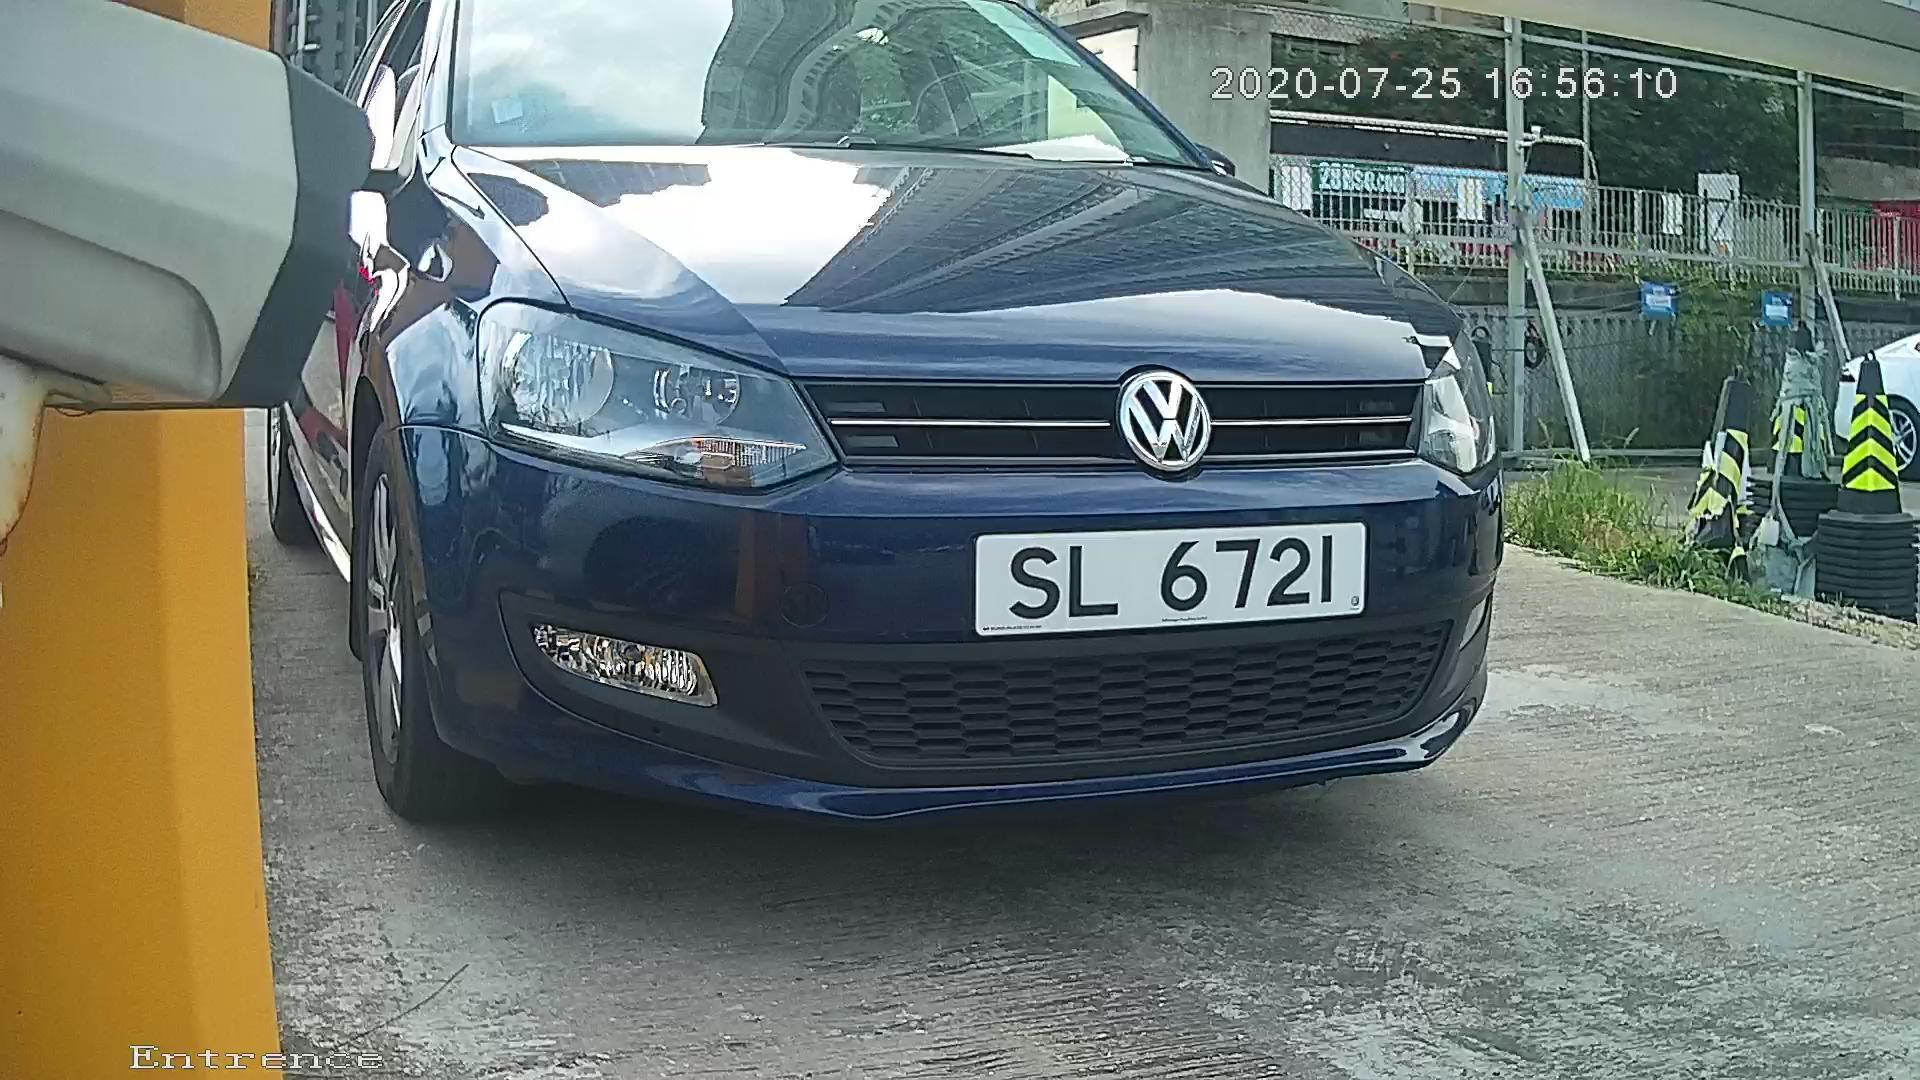privatecar: (241, 34, 1611, 844)
